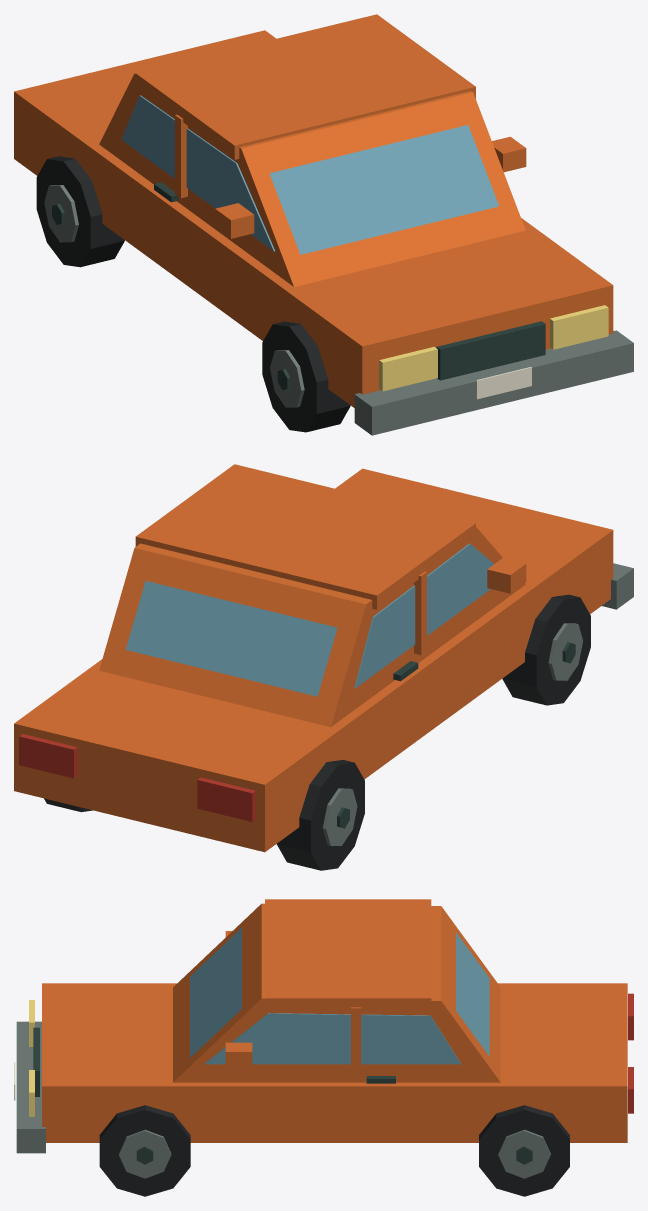
The model's file is VisitorSedan.obj.
3 renders of one model, top to bottom at view 1: azimuth 30°, elevation 25°; view 2: azimuth 150°, elevation 25°; view 3: azimuth 270°, elevation 25°, orthographic. The views are drawn at different scales.
Parts seen in each view (by area): view 1: VisitorSedan; view 2: VisitorSedan; view 3: VisitorSedan.
Part boxes in pixels (x1,y1,x2,y2): VisitorSedan: [14, 14, 633, 435]; VisitorSedan: [14, 464, 633, 870]; VisitorSedan: [14, 899, 633, 1196].
Bounding box in the file's own units: 2.15 × 1.59 × 4.66.
